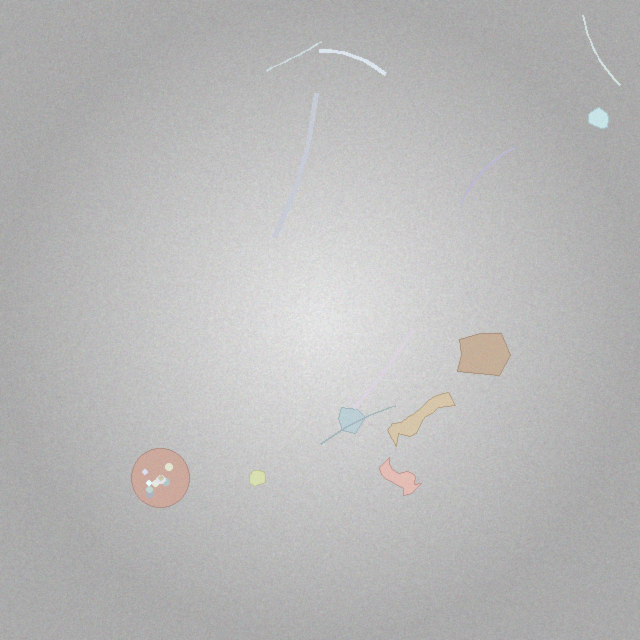fiber: (269, 88, 321, 242), (351, 327, 416, 412), (458, 146, 517, 207), (318, 404, 398, 448), (580, 13, 622, 87), (315, 45, 390, 79), (263, 39, 324, 74)
film: (387, 393, 456, 447), (379, 457, 422, 496)
foam: (131, 448, 190, 507)
fragment: (458, 333, 510, 375), (339, 408, 365, 433), (589, 108, 609, 128), (249, 470, 265, 486)
